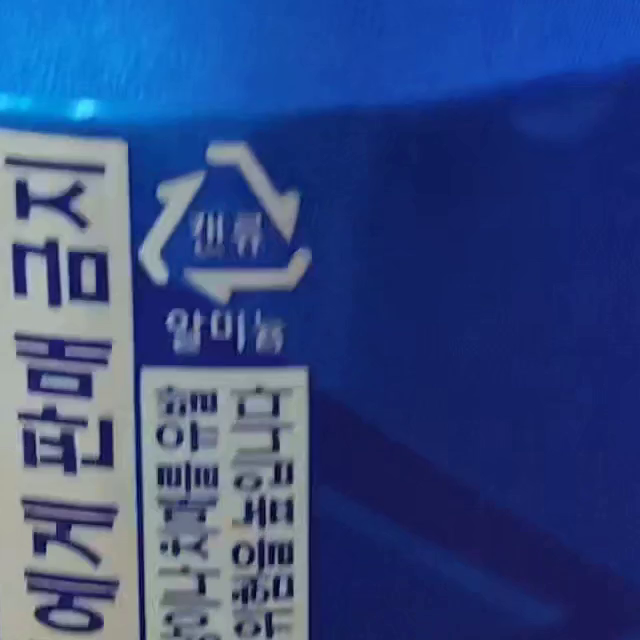Can: (137, 144, 314, 302)
